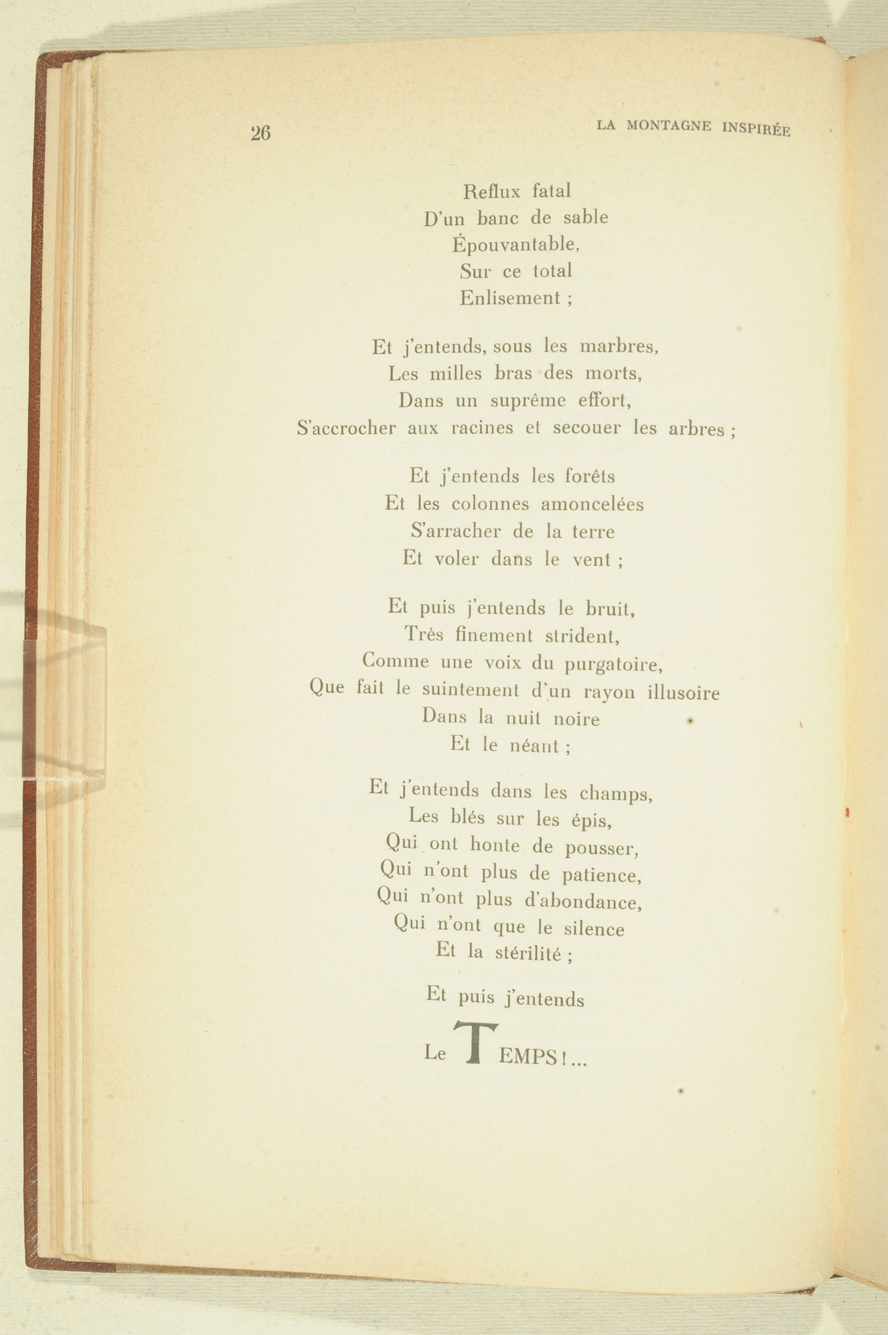N°Page: (243, 117, 283, 147)
TitreCourant: (599, 114, 796, 141)
Vers: (295, 417, 746, 444), (310, 678, 728, 704), (357, 647, 669, 679), (410, 1018, 591, 1071), (361, 773, 659, 805), (368, 888, 644, 917), (367, 335, 666, 361), (385, 596, 636, 626), (385, 830, 649, 857), (373, 861, 647, 887), (371, 495, 655, 519), (396, 548, 630, 575), (402, 460, 622, 488), (389, 387, 635, 411), (420, 200, 617, 229), (388, 918, 634, 941), (401, 806, 621, 831), (422, 983, 594, 1014), (391, 522, 621, 545), (371, 365, 646, 384), (393, 627, 634, 648), (440, 733, 583, 764), (427, 942, 574, 968), (416, 708, 599, 726), (450, 233, 592, 255), (451, 287, 578, 311), (461, 177, 576, 201), (452, 260, 579, 281)
